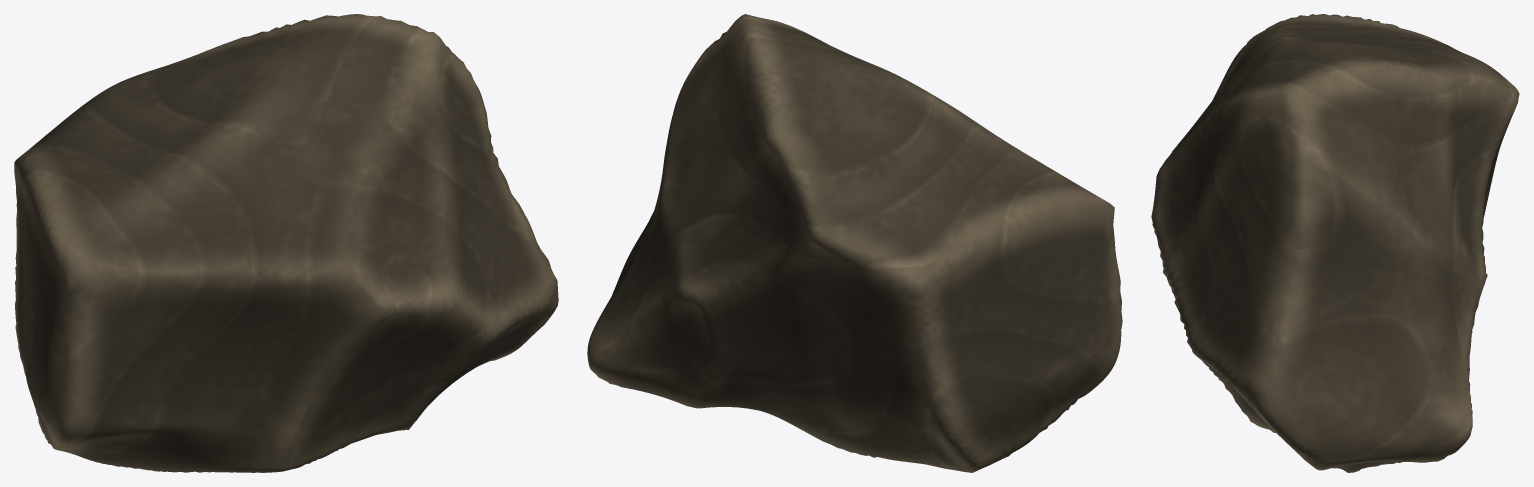
The model's file is sharp_rock_M.fbx.
3 renders of one model, left to right at view 1: azimuth 30°, elevation 25°; view 2: azimuth 150°, elevation 25°; view 3: azimuth 270°, elevation 25°, orthographic. The views are drawn at different scales.
Parts seen in each view (by area): view 1: sharp_rock_M; view 2: sharp_rock_M; view 3: sharp_rock_M.
Part boxes in pixels (x1,y1,x2,y2): sharp_rock_M: (14,14,558,472); sharp_rock_M: (587,14,1122,472); sharp_rock_M: (1151,14,1519,472).
Bounding box in the file's own units: 704 × 526 × 467.
